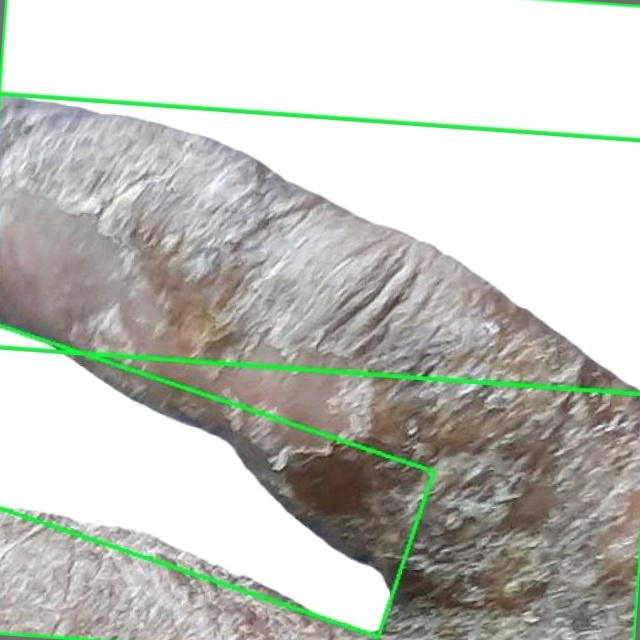Eczema: (0, 93, 639, 639), (0, 0, 639, 393), (0, 313, 438, 637)
